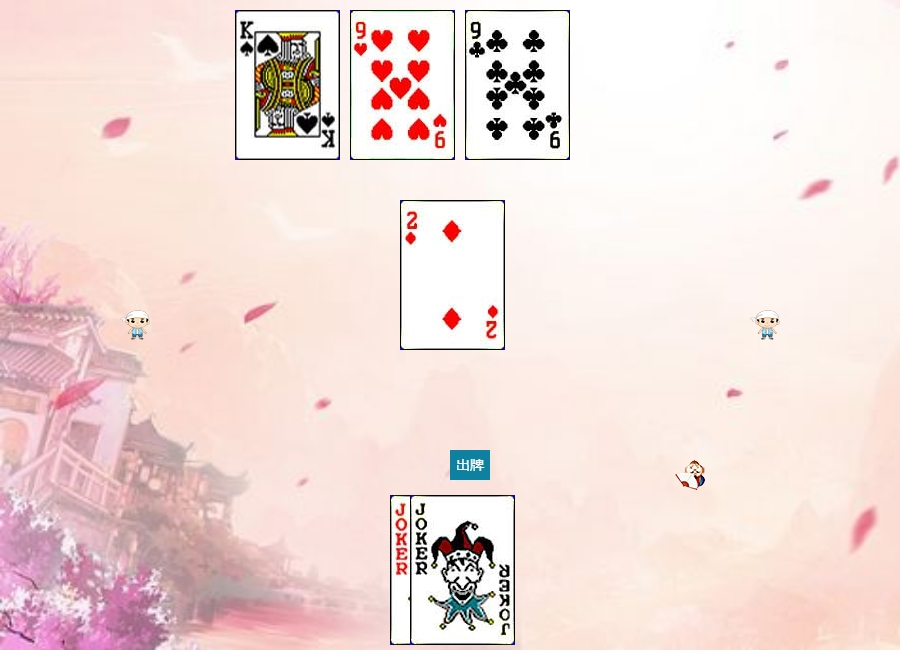13~4: (235, 10, 340, 160)
15~1: (400, 200, 505, 350)
17~3: (410, 495, 515, 645)
18~4: (390, 495, 495, 645)
9~2: (465, 10, 570, 160)
9~3: (350, 10, 455, 160)
